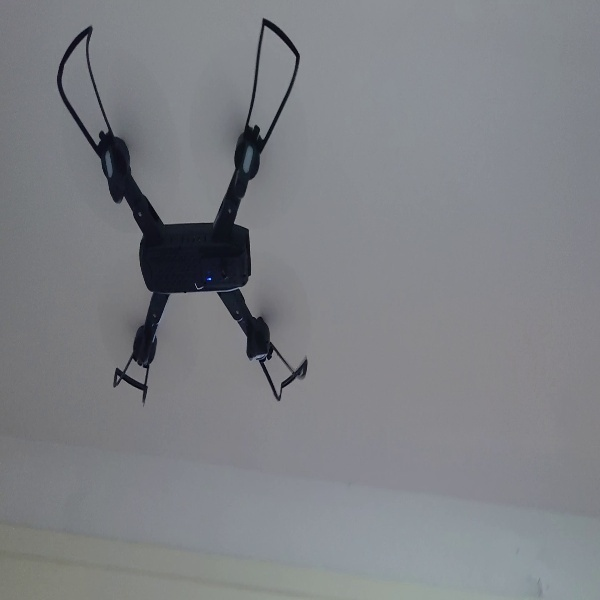drone: (54, 15, 319, 404)
